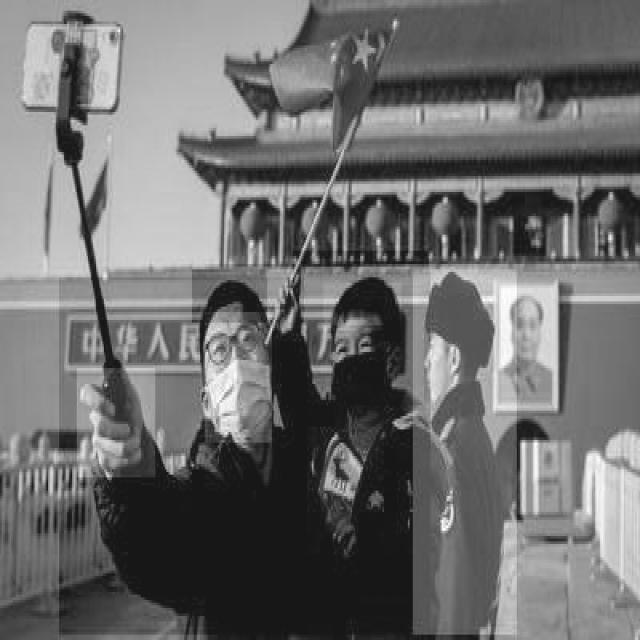face_mask: (205, 312, 272, 443), (331, 325, 387, 411)
face_nomask: (424, 331, 448, 400)
glasses: (201, 325, 266, 368)
hand_noglove: (77, 368, 155, 477)
head_nohelmet: (192, 269, 267, 323), (323, 282, 402, 330)
person: (59, 278, 306, 638), (293, 251, 430, 637), (413, 270, 518, 638)
